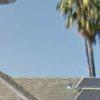Tree: (49, 1, 100, 46)
